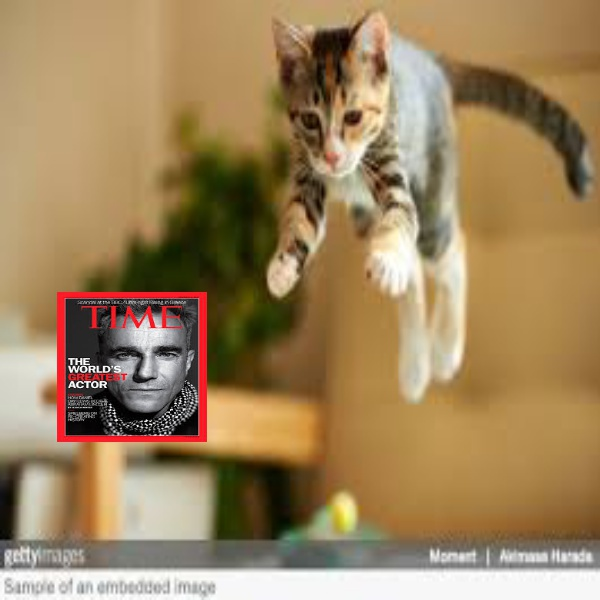time_cover: (62, 293, 219, 453)
